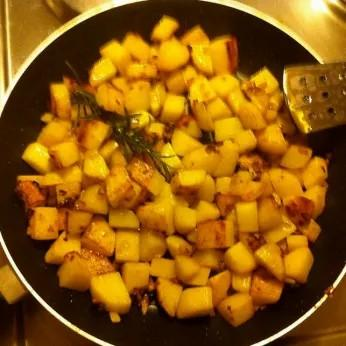AlooMasala: (15, 15, 328, 328)
